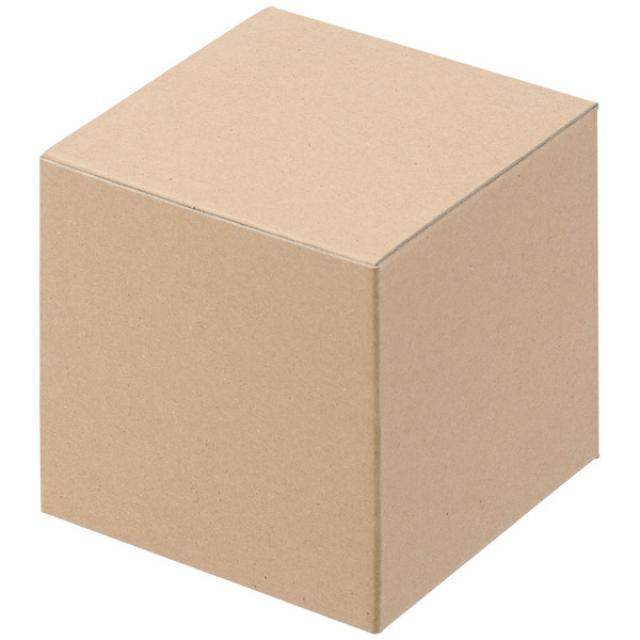-: (30, 3, 617, 635)
